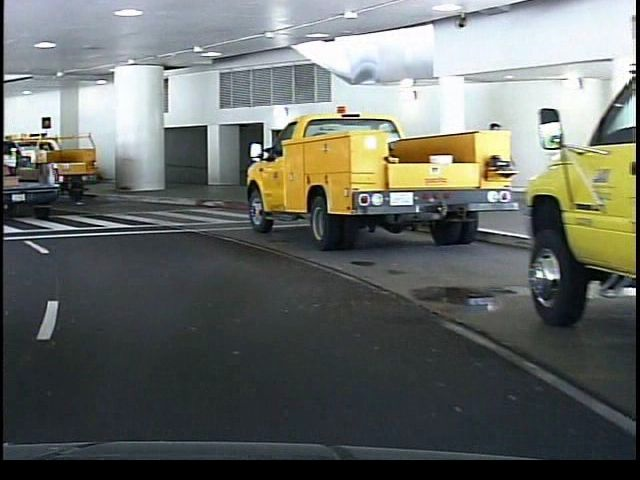person: (475, 114, 507, 217)
